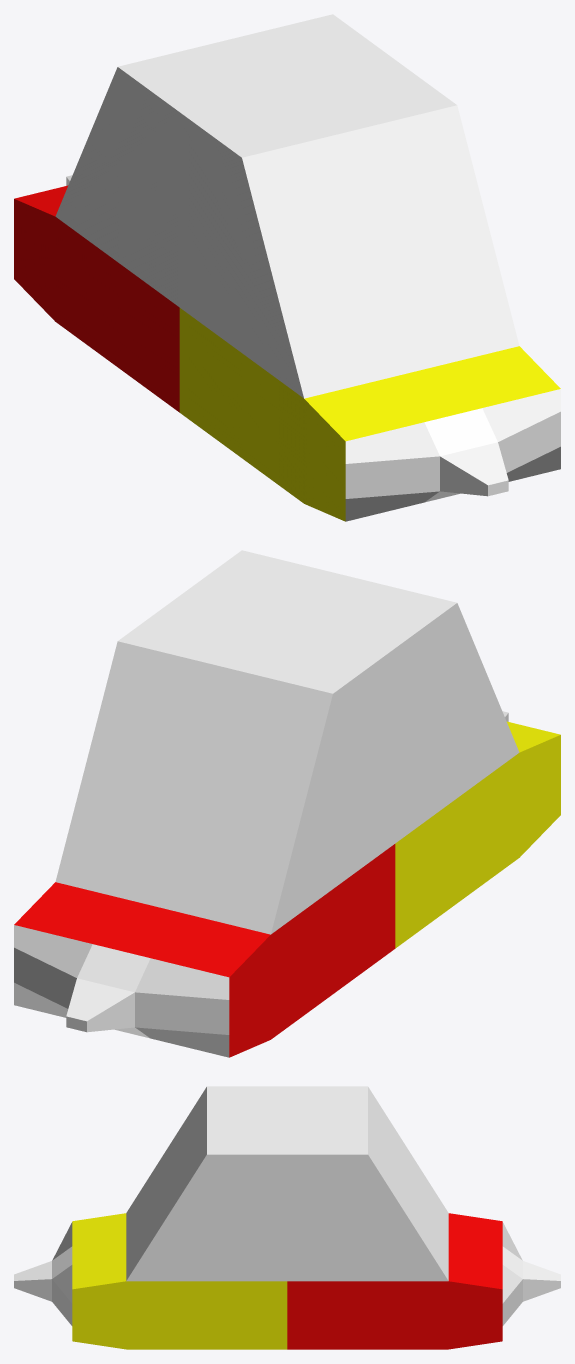
Rendered from bumper-dispenser.fbx.
The picture shows the model from 3 angles, top to bottom: view 1: azimuth 30°, elevation 25°; view 2: azimuth 150°, elevation 25°; view 3: azimuth 270°, elevation 25°; orthographic projection. The views are drawn at different scales.
Parts seen in each view (by area): view 1: BumperDispenser; view 2: BumperDispenser; view 3: BumperDispenser.
Part boxes in pixels (x1,y1,x2,y2): BumperDispenser: (14,14,560,521); BumperDispenser: (14,550,560,1057); BumperDispenser: (14,1086,560,1349).
Bounding box in the file's own units: 0.6 × 0.8 × 2.04.
